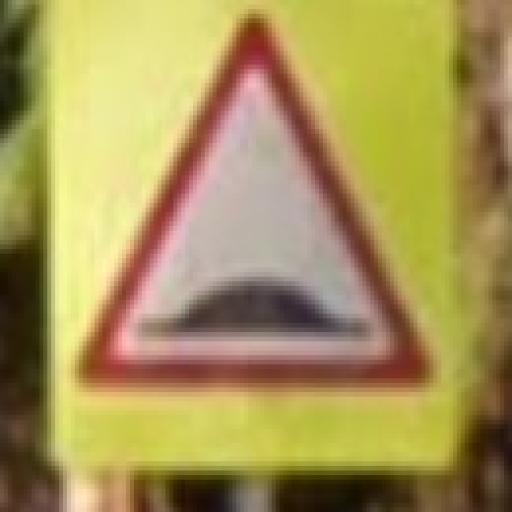traffic_sign: (72, 6, 442, 402)
